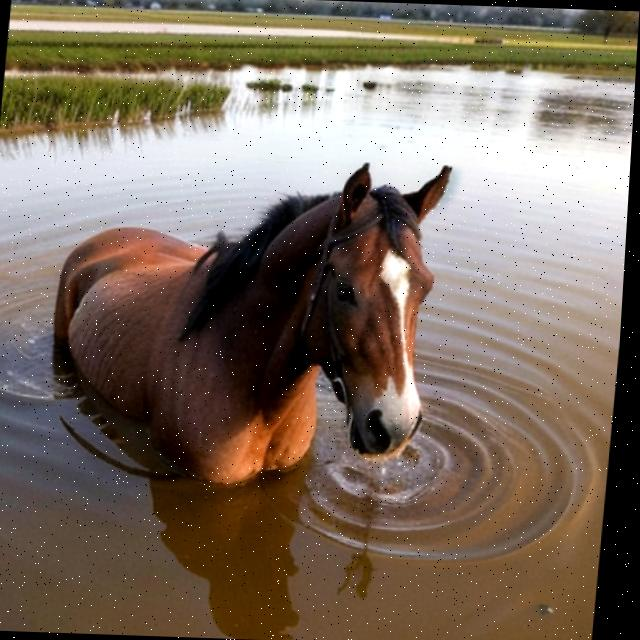horse: (19, 137, 478, 517)
